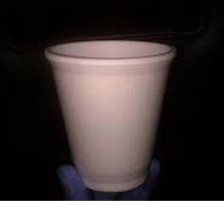paper_cup: (39, 33, 178, 197)
